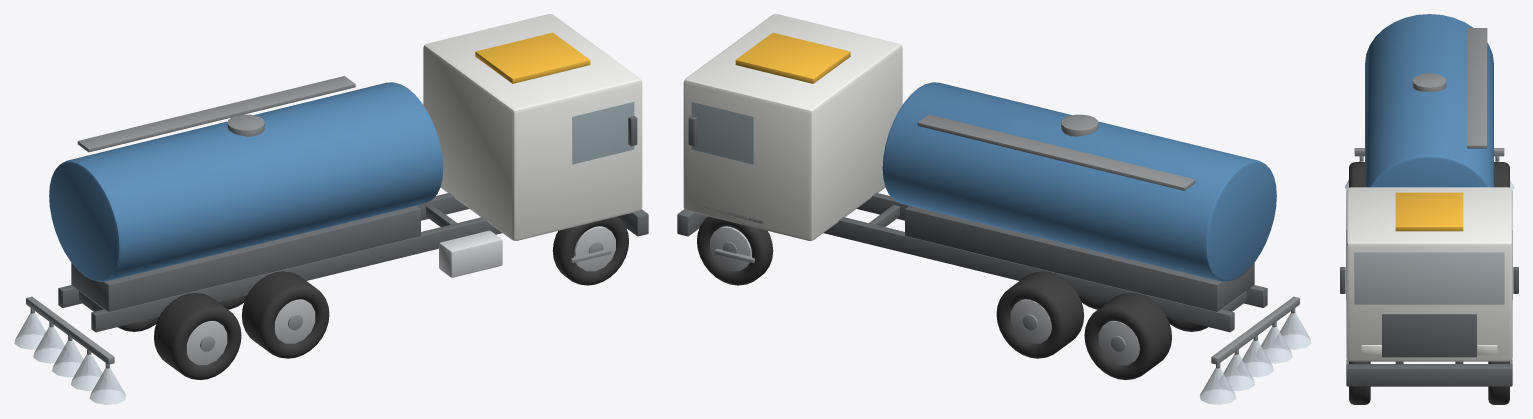
The model's file is EQP-TER-007.glb.
The picture shows the model from 3 angles, left to right: view 1: azimuth 30°, elevation 25°; view 2: azimuth 150°, elevation 25°; view 3: azimuth 270°, elevation 25°; orthographic projection. The views are drawn at different scales.
Visible parts, largest first — view 1: EQP-TER-007_tanque, EQP-TER-007_cab, EQP-TER-007_berco, EQP-TER-007_chassi_e, EQP-TER-007_roda2_pneu, EQP-TER-007_roda4_pneu, EQP-TER-007_passarela, EQP-TER-007_luzes, EQP-TER-007_janela-1, EQP-TER-007_roda0_pneu, EQP-TER-007_tanque_comb, EQP-TER-007_roda4_aro (+11 smaller); view 2: EQP-TER-007_tanque, EQP-TER-007_cab, EQP-TER-007_berco, EQP-TER-007_chassi_d, EQP-TER-007_roda3_pneu, EQP-TER-007_roda5_pneu, EQP-TER-007_passarela, EQP-TER-007_luzes, EQP-TER-007_janela1, EQP-TER-007_roda1_pneu, EQP-TER-007_roda5_aro, EQP-TER-007_roda3_aro (+10 smaller); view 3: EQP-TER-007_cab, EQP-TER-007_tanque, EQP-TER-007_parabrisa, EQP-TER-007_grade, EQP-TER-007_parachoque, EQP-TER-007_luzes, EQP-TER-007_passarela, EQP-TER-007_boca, EQP-TER-007_roda0_pneu, EQP-TER-007_roda1_pneu, EQP-TER-007_roda4_pneu, EQP-TER-007_roda5_pneu (+3 smaller).
Part boxes in pixels (left/top/right/bottom): EQP-TER-007_tanque: left=49, top=82, right=443, bottom=281; EQP-TER-007_cab: left=423, top=14, right=642, bottom=240; EQP-TER-007_berco: left=71, top=205, right=420, bottom=311; EQP-TER-007_chassi_e: left=91, top=217, right=502, bottom=332; EQP-TER-007_roda2_pneu: left=241, top=271, right=329, bottom=358; EQP-TER-007_roda4_pneu: left=154, top=293, right=241, bottom=379; EQP-TER-007_passarela: left=77, top=76, right=355, bottom=152; EQP-TER-007_luzes: left=475, top=32, right=590, bottom=83; EQP-TER-007_janela-1: left=572, top=102, right=634, bottom=164; EQP-TER-007_roda0_pneu: left=552, top=216, right=628, bottom=285; EQP-TER-007_tanque_comb: left=439, top=230, right=502, bottom=277; EQP-TER-007_roda4_aro: left=186, top=321, right=227, bottom=365; EQP-TER-007_tanque: left=882, top=82, right=1276, bottom=281; EQP-TER-007_cab: left=683, top=14, right=902, bottom=240; EQP-TER-007_berco: left=905, top=205, right=1254, bottom=311; EQP-TER-007_chassi_d: left=823, top=217, right=1234, bottom=332; EQP-TER-007_roda3_pneu: left=996, top=271, right=1084, bottom=358; EQP-TER-007_roda5_pneu: left=1084, top=293, right=1171, bottom=379; EQP-TER-007_passarela: left=917, top=114, right=1195, bottom=190; EQP-TER-007_luzes: left=735, top=32, right=850, bottom=83; EQP-TER-007_janela1: left=691, top=102, right=753, bottom=164; EQP-TER-007_roda1_pneu: left=697, top=216, right=773, bottom=285; EQP-TER-007_roda5_aro: left=1098, top=321, right=1139, bottom=365; EQP-TER-007_roda3_aro: left=1010, top=299, right=1051, bottom=343; EQP-TER-007_cab: left=1346, top=187, right=1512, bottom=361; EQP-TER-007_tanque: left=1365, top=14, right=1493, bottom=187; EQP-TER-007_parabrisa: left=1354, top=252, right=1504, bottom=304; EQP-TER-007_grade: left=1382, top=314, right=1476, bottom=357; EQP-TER-007_parachoque: left=1346, top=364, right=1512, bottom=386; EQP-TER-007_luzes: left=1395, top=192, right=1463, bottom=231; EQP-TER-007_passarela: left=1467, top=28, right=1487, bottom=148; EQP-TER-007_boca: left=1412, top=73, right=1446, bottom=91; EQP-TER-007_roda0_pneu: left=1349, top=361, right=1370, bottom=404; EQP-TER-007_roda1_pneu: left=1488, top=361, right=1509, bottom=404; EQP-TER-007_roda4_pneu: left=1349, top=162, right=1364, bottom=187; EQP-TER-007_roda5_pneu: left=1494, top=162, right=1509, bottom=187.
Bounding box in the file's own units: 8.42 × 3.03 × 2.63.
